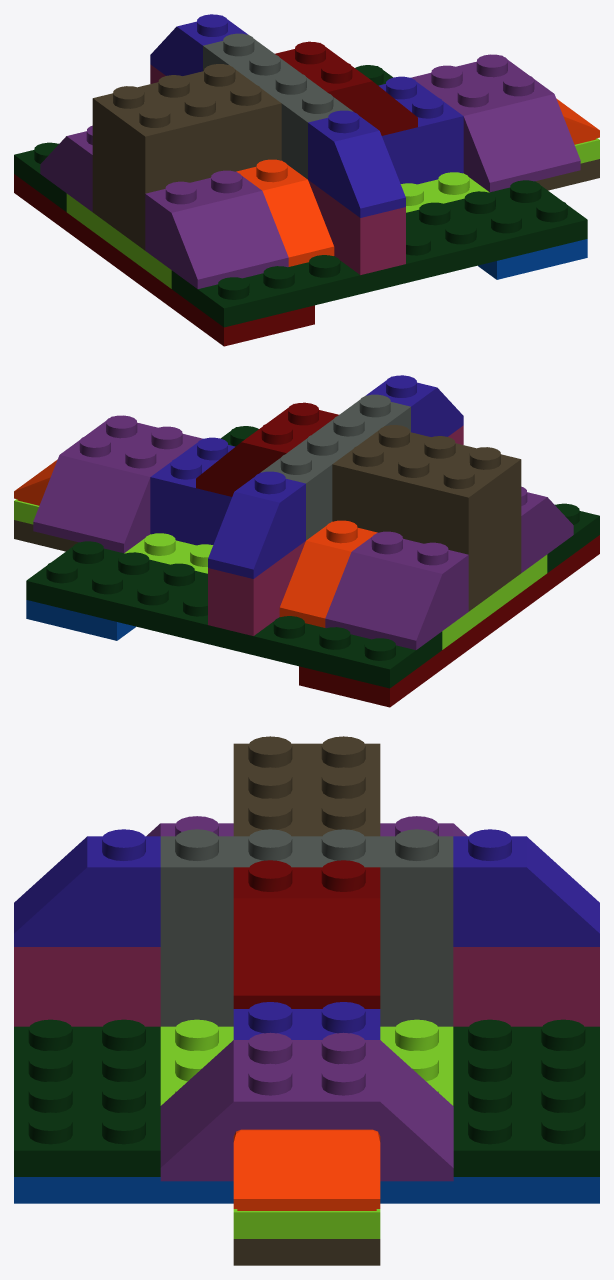
3 renders of one model, top to bottom at view 1: azimuth 30°, elevation 25°; view 2: azimuth 150°, elevation 25°; view 3: azimuth 270°, elevation 25°, orthographic. The views are drawn at different scales.
Size of the model in its own units: 200 by 68 by 160.
